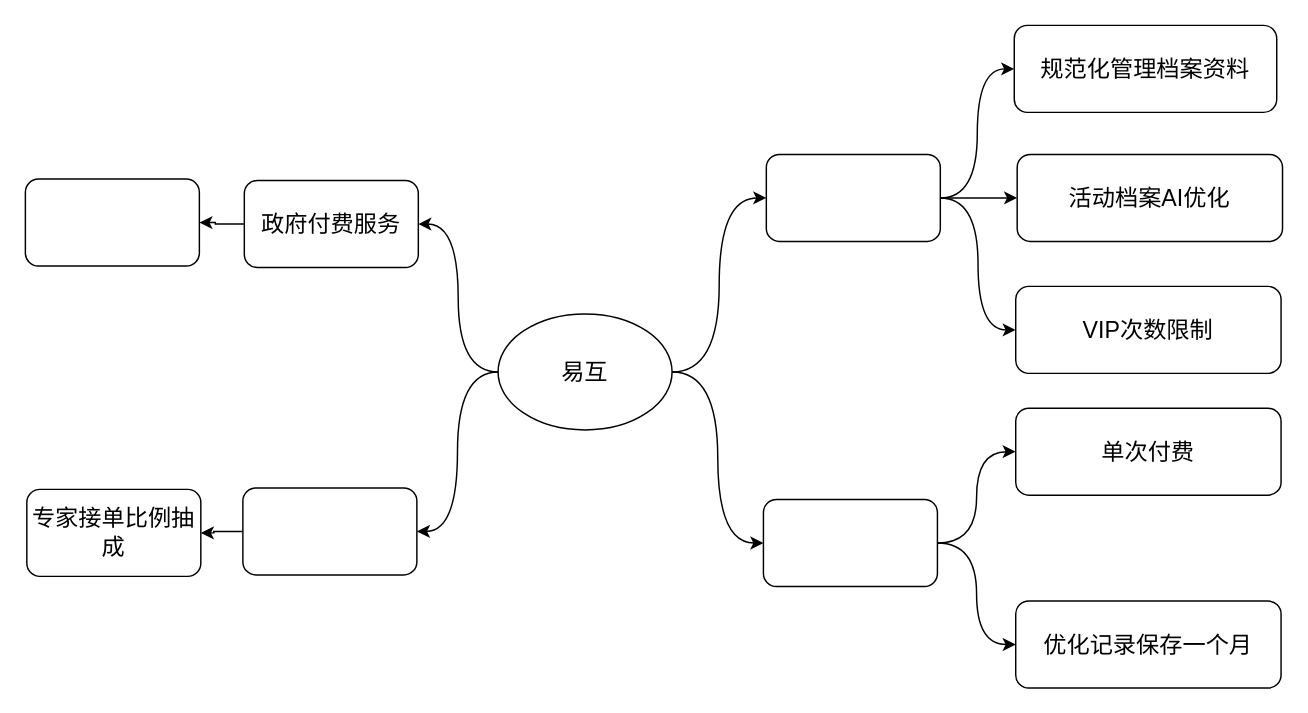
The diagram is 1308 pixels wide and 713 high, and some of its shapes have lost their labels. The shapes that lost their labels are listed below. From the top down, each one's centre as x and y in pixels, then its label:
point (852, 197): 档案管理
point (111, 222): 可私人订制
point (329, 530): 专家接单服务
point (849, 542): 专家定制
